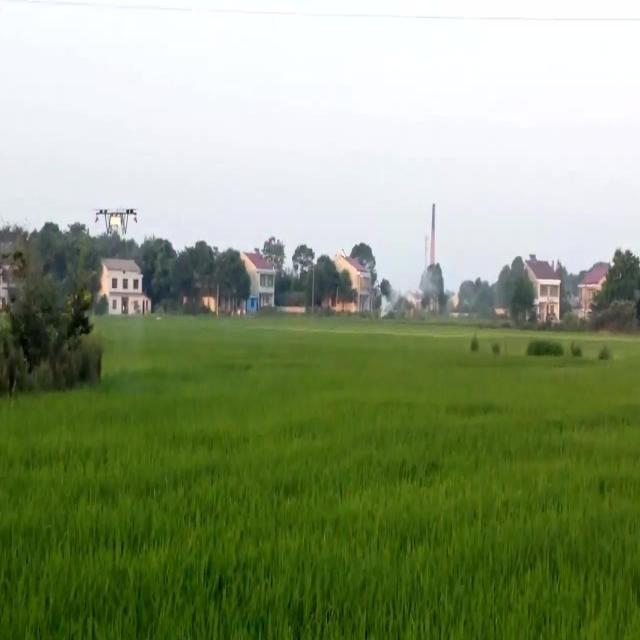drone: (93, 203, 139, 240)
